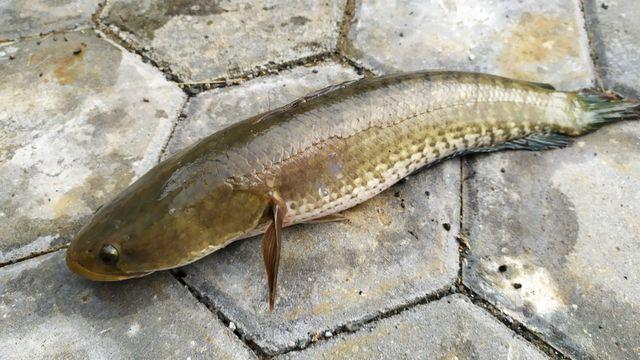Mulut: (54, 226, 166, 302)
Sirip Anal: (412, 118, 584, 182)
Sirip Dada: (248, 185, 296, 319)
Sirip Ekor: (535, 71, 640, 145)
Sirip Perut: (296, 204, 359, 234)
